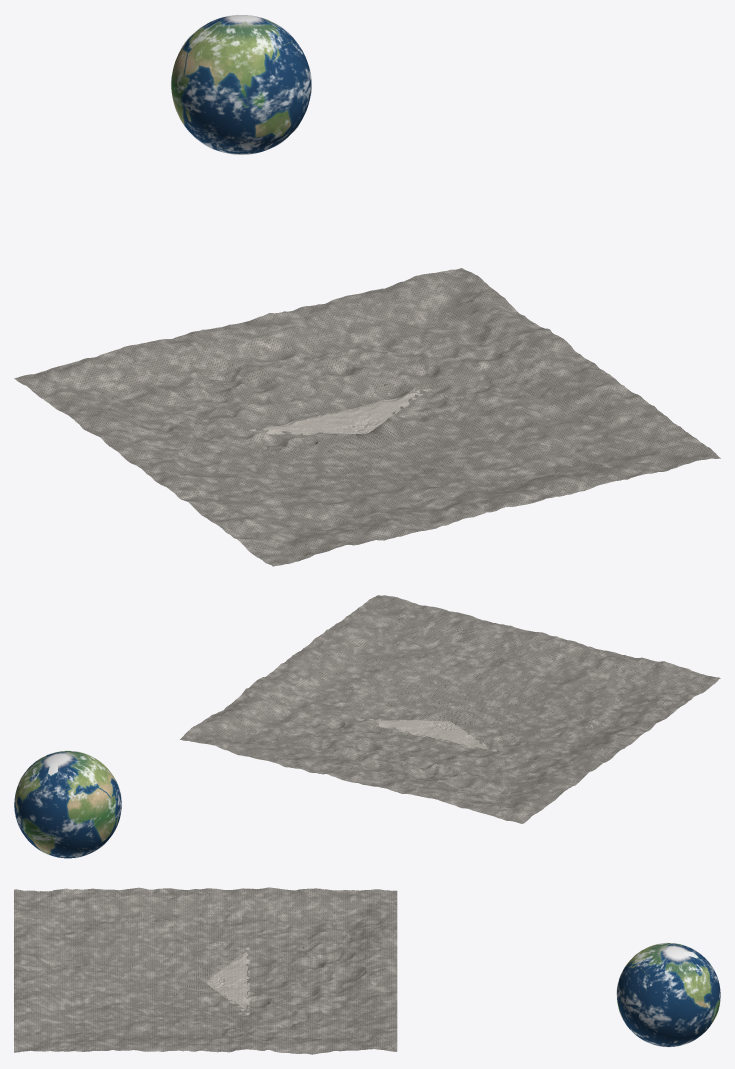
The model's file is lunar_environment_v4.glb.
The picture shows the model from 3 angles, top to bottom: view 1: azimuth 30°, elevation 25°; view 2: azimuth 150°, elevation 25°; view 3: azimuth 270°, elevation 25°; orthographic projection. The views are drawn at different scales.
Visible parts, largest first — view 1: Lunar_Mountains_Far, Earth_Globe, Earth_CloudLayer, Lunar_Terrain_Near; view 2: Lunar_Mountains_Far, Earth_Globe, Earth_CloudLayer, Lunar_Terrain_Near; view 3: Lunar_Mountains_Far, Earth_Globe, Earth_CloudLayer, Lunar_Terrain_Near.
Boxes of the visible parts, bbox=[...] form: Lunar_Mountains_Far: bbox=[14, 268, 720, 566]; Earth_Globe: bbox=[171, 15, 311, 154]; Earth_CloudLayer: bbox=[171, 19, 311, 154]; Lunar_Terrain_Near: bbox=[249, 389, 431, 434]; Lunar_Mountains_Far: bbox=[180, 595, 720, 823]; Earth_Globe: bbox=[14, 751, 121, 858]; Earth_CloudLayer: bbox=[14, 750, 121, 858]; Lunar_Terrain_Near: bbox=[357, 719, 496, 751]; Lunar_Mountains_Far: bbox=[14, 887, 397, 1054]; Earth_Globe: bbox=[617, 943, 720, 1046]; Earth_CloudLayer: bbox=[616, 942, 720, 1047]; Lunar_Terrain_Near: bbox=[206, 947, 249, 1015].
Bounding box in the file's own units: 7358 × 2118 × 12895.
Materials: 6 (3 with a texture image).
